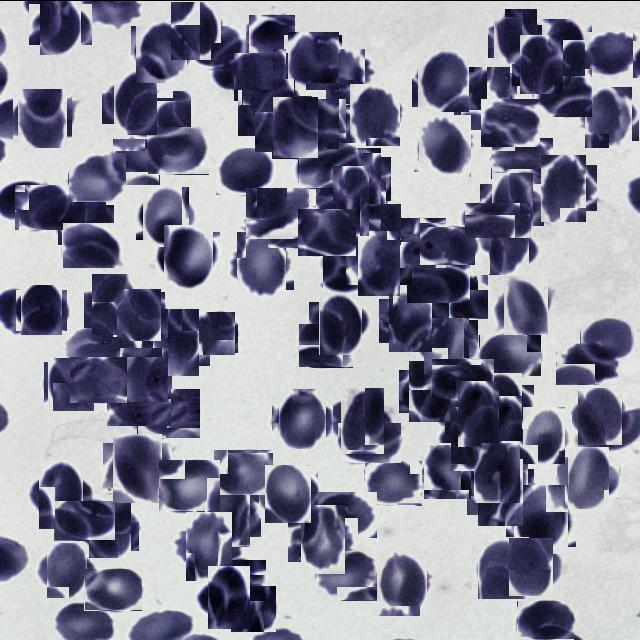red blood cell: (510, 488, 572, 550), (108, 438, 167, 497), (416, 115, 474, 173), (180, 516, 238, 574), (372, 554, 430, 612), (315, 548, 379, 600), (245, 186, 309, 238), (232, 235, 290, 292), (295, 510, 352, 568), (148, 314, 205, 371), (475, 539, 532, 596), (247, 86, 304, 143), (414, 52, 472, 108), (32, 466, 90, 522), (158, 459, 220, 511), (133, 23, 190, 79), (472, 463, 529, 519), (160, 228, 217, 284), (137, 388, 200, 438), (458, 69, 514, 125), (536, 159, 592, 215), (347, 86, 403, 142), (200, 486, 256, 542), (334, 392, 390, 448), (107, 376, 171, 425), (581, 88, 636, 144), (418, 314, 474, 369), (472, 378, 528, 433), (168, 1, 224, 56), (286, 32, 340, 88), (147, 126, 209, 174), (15, 90, 70, 144), (139, 188, 193, 242), (276, 392, 330, 446), (88, 277, 142, 331), (108, 74, 162, 128), (352, 236, 406, 290), (324, 172, 378, 226), (451, 386, 505, 440), (470, 445, 524, 499), (211, 42, 273, 89), (68, 152, 126, 202), (216, 147, 277, 194), (202, 570, 255, 624), (332, 152, 387, 204), (272, 96, 318, 158), (481, 98, 540, 146), (499, 279, 552, 332), (236, 49, 289, 102), (316, 491, 377, 537), (62, 222, 123, 268), (69, 323, 137, 364), (534, 68, 592, 116), (128, 90, 191, 134), (335, 203, 401, 245), (213, 449, 273, 495), (314, 296, 366, 349), (298, 208, 356, 255), (404, 364, 456, 416), (562, 451, 614, 503), (422, 444, 474, 496), (486, 178, 538, 230), (384, 294, 436, 346), (444, 412, 496, 464), (394, 216, 446, 268), (297, 101, 349, 153), (262, 467, 314, 519), (574, 390, 626, 442), (506, 540, 558, 592), (14, 184, 72, 230), (298, 142, 356, 188), (516, 37, 567, 89), (584, 31, 640, 78), (70, 356, 127, 402), (364, 460, 422, 505), (479, 334, 541, 376), (119, 348, 170, 399), (34, 0, 86, 50), (431, 358, 494, 399), (430, 274, 488, 318), (538, 21, 589, 71), (491, 137, 553, 178), (556, 343, 618, 384), (338, 422, 401, 462), (407, 262, 470, 302), (85, 504, 135, 554), (490, 10, 540, 60), (518, 410, 568, 460), (484, 220, 534, 270), (46, 359, 96, 409), (189, 25, 246, 68), (54, 500, 115, 540), (84, 568, 142, 610), (298, 323, 353, 367), (464, 202, 530, 238), (580, 317, 631, 363), (43, 546, 91, 594), (62, 200, 110, 248), (115, 290, 163, 338), (268, 205, 322, 247), (322, 51, 369, 99), (517, 600, 574, 639), (113, 138, 160, 184), (230, 585, 276, 631), (420, 226, 475, 264), (19, 286, 64, 332), (323, 246, 364, 292), (249, 14, 295, 54), (216, 559, 266, 592), (196, 312, 237, 352)
